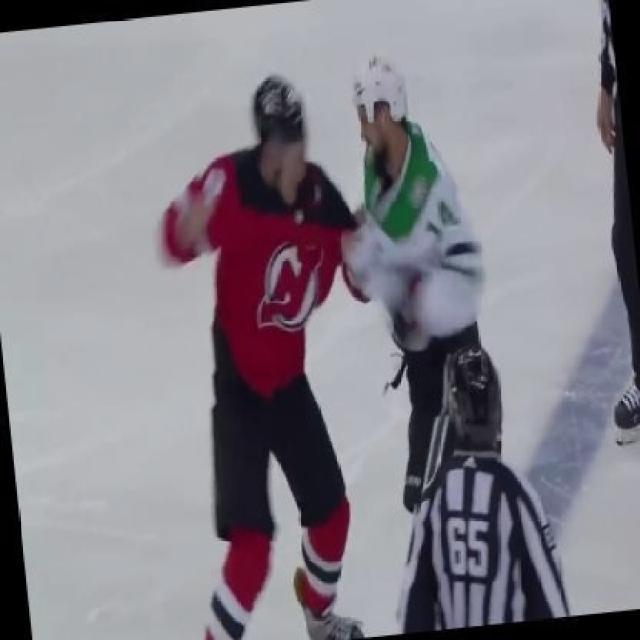fight: (155, 58, 491, 634)
non-fight: (369, 335, 574, 637)
